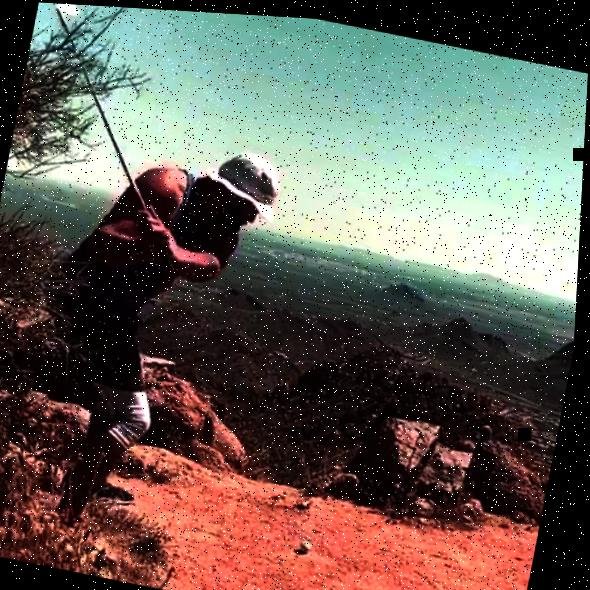ClubHead: (54, 3, 82, 18)
GolfBall: (303, 535, 319, 550)
